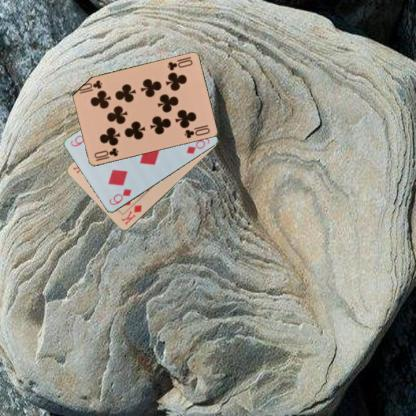10c: (165, 54, 194, 73), (91, 145, 120, 160)
6d: (106, 186, 133, 207)
Kd: (118, 202, 144, 227)
